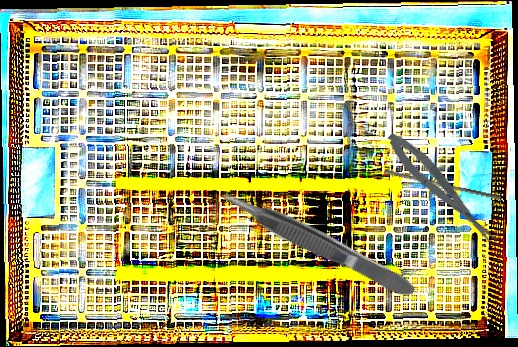Micro Scissor: (381, 126, 502, 253)
Pusher: (383, 168, 502, 201)
Tissue Forceps: (213, 180, 419, 306)
